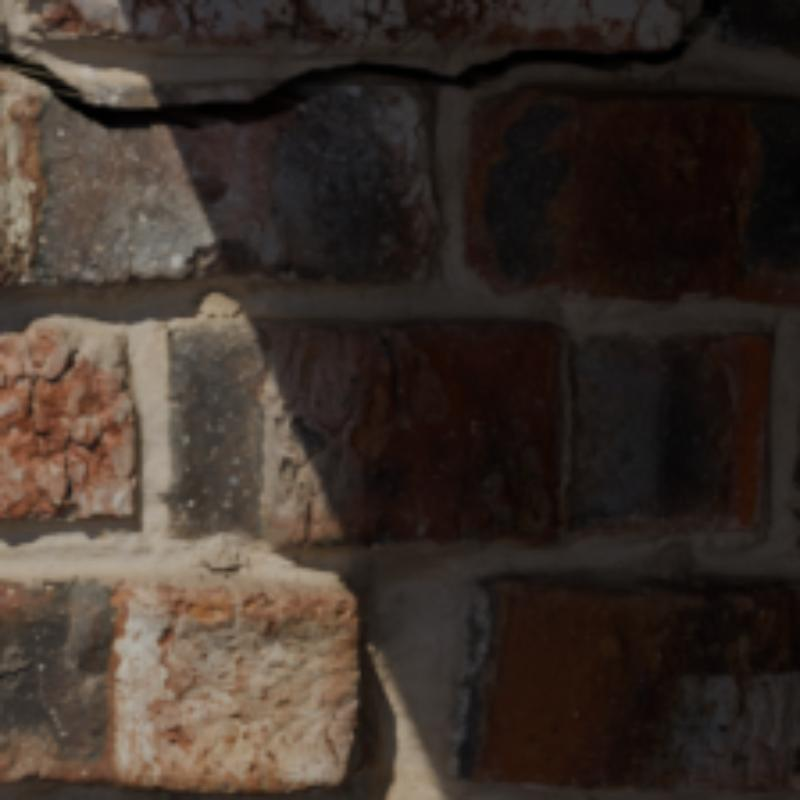pothole: (0, 0, 725, 129)
